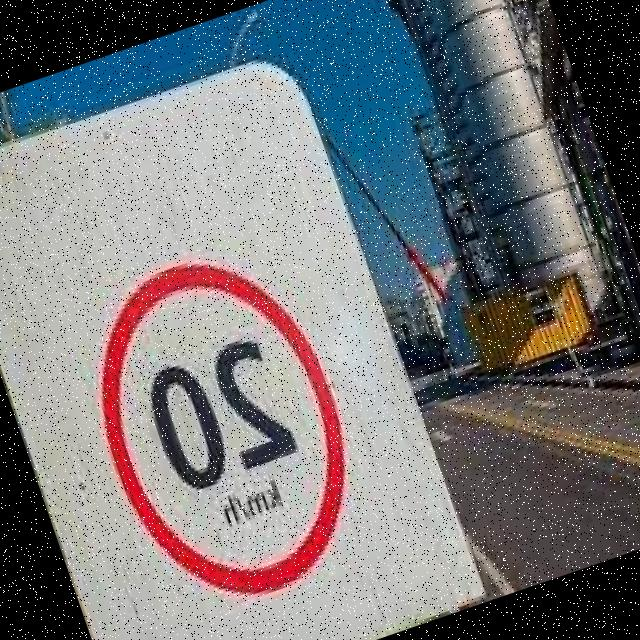speed_limit_20: (51, 223, 398, 630)
